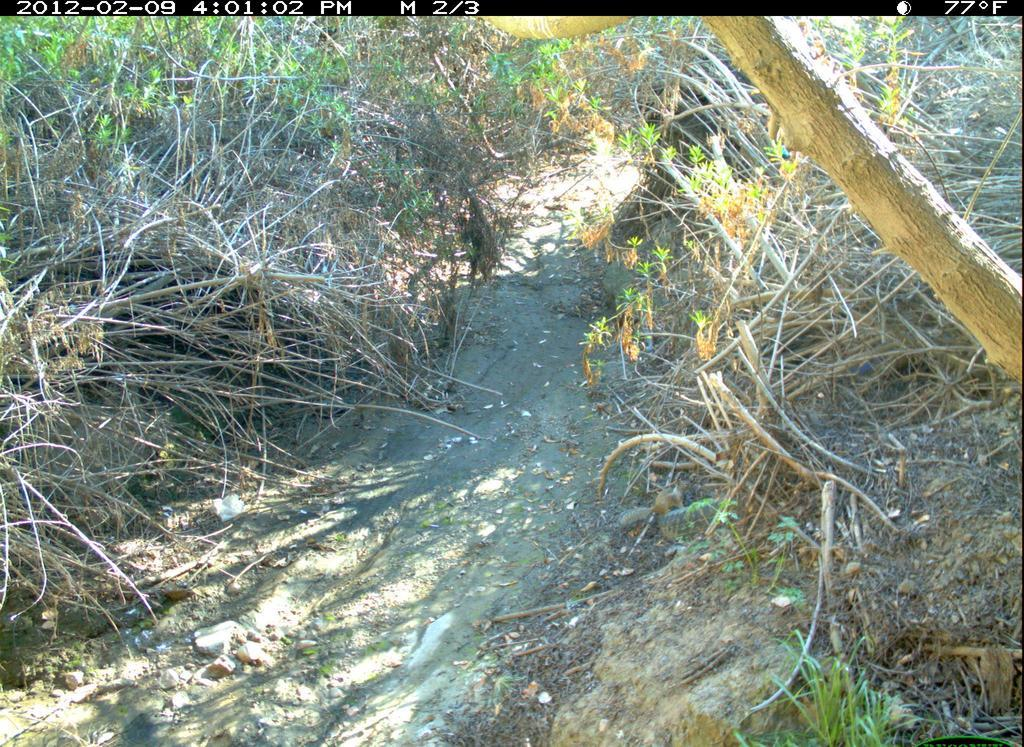squirrel: (606, 475, 692, 537)
